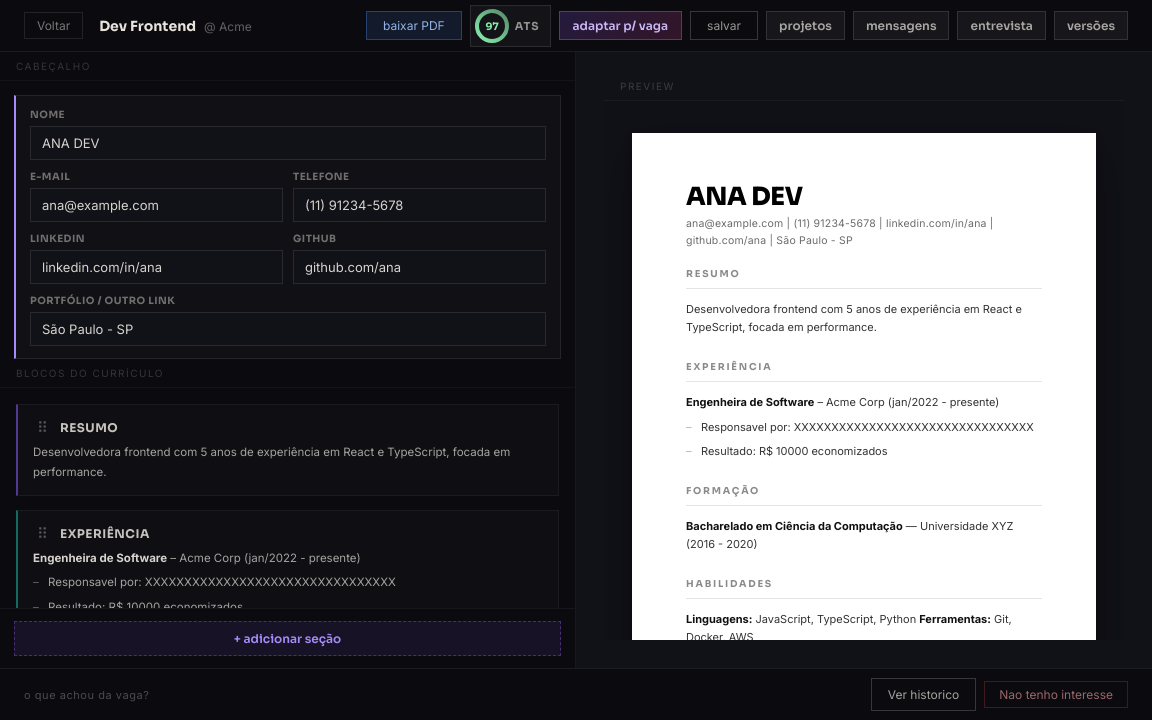
Test: CvEditor — ATS Center › abre e fecha o painel ao clicar no badge ATS
Click the button titled "ATS Center". click: point(510, 26)
box: [470,4,550,46]
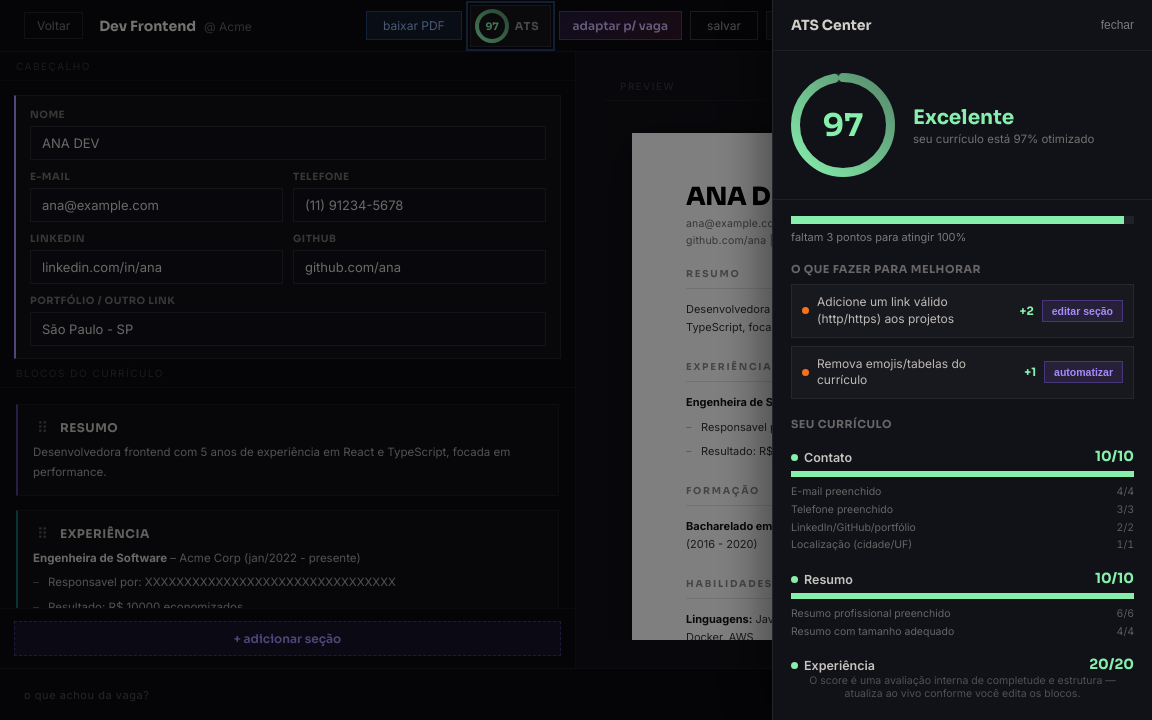
expect the text "ATS Center" is shown: met, box [791,16,872,34]
Click the button "fechar". click: point(1117, 25)
box: [1101,18,1134,32]
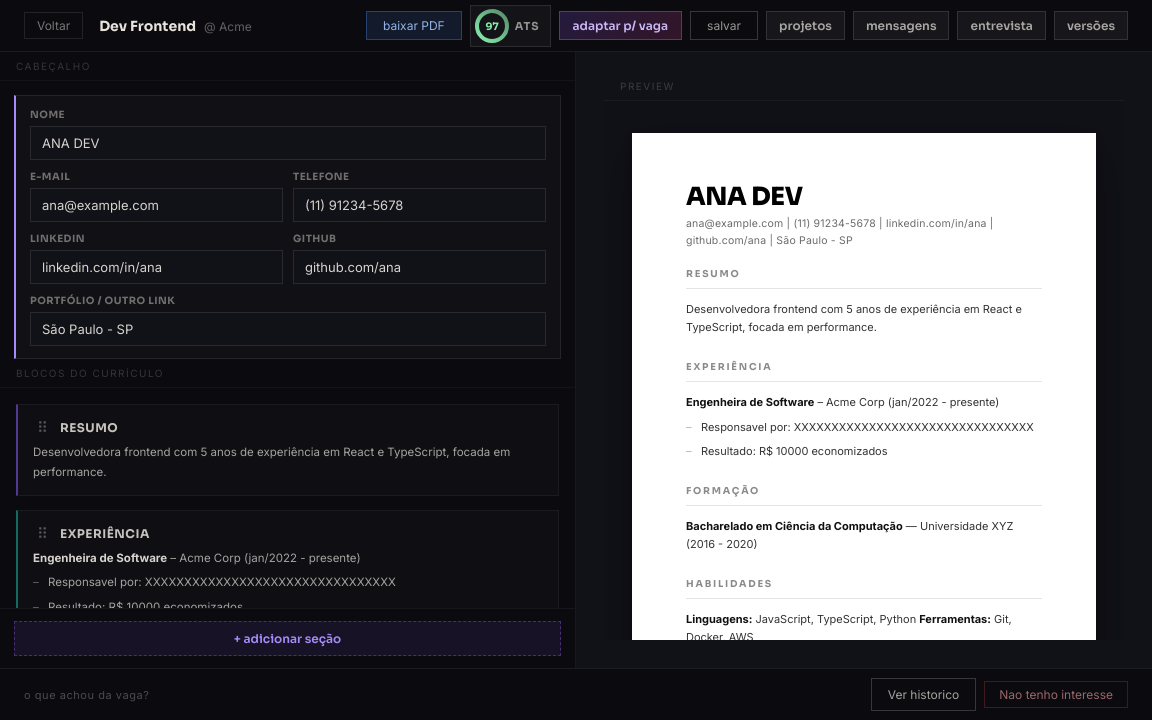
expect the text "O que fazer para melhorar" is gone: met
